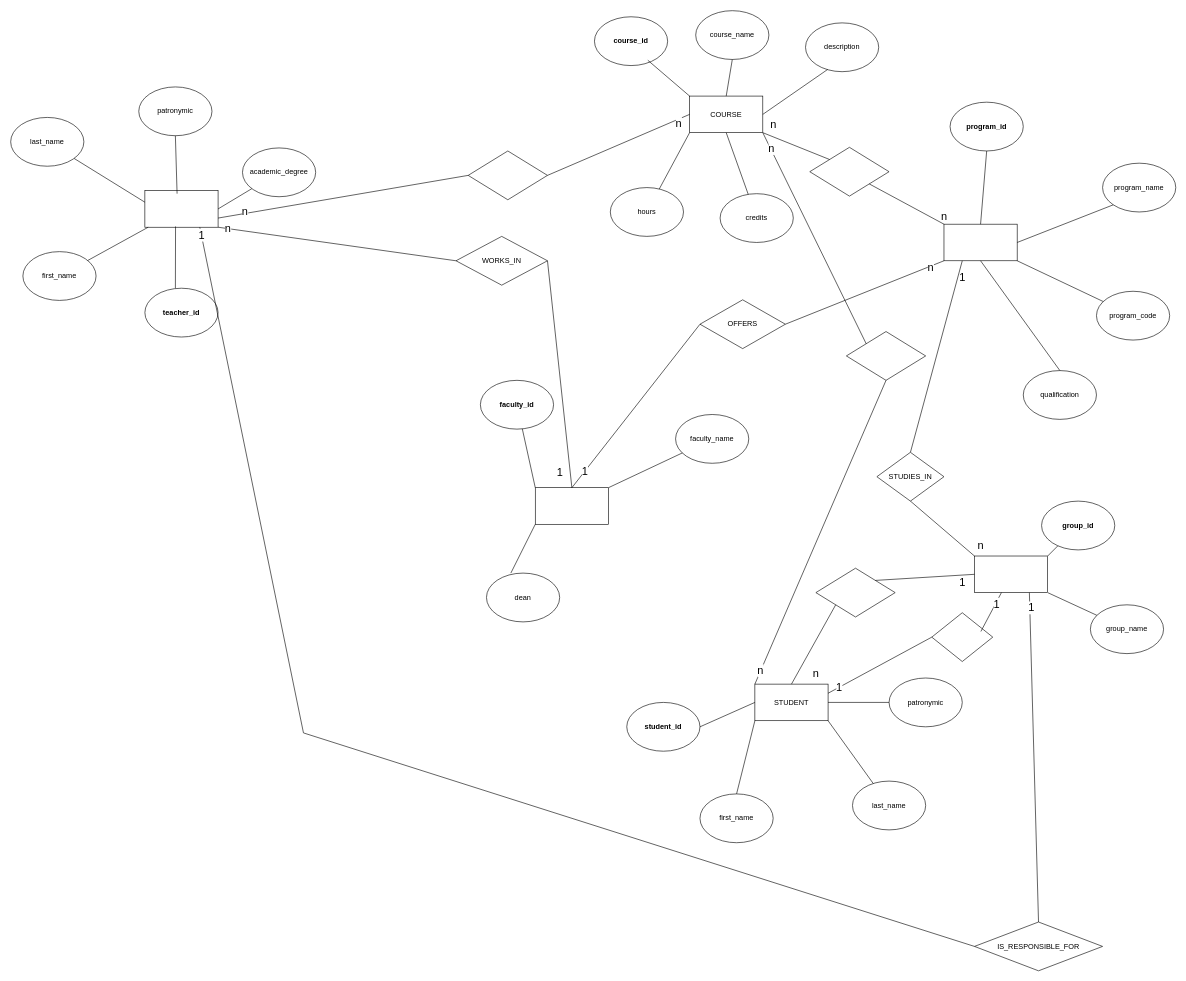
This 1186x981 diagram has some shape labels left out. The centre of each missing label's shape, as x and y in pixels:
"BELONGS_TO" goes at point 855,592.
"ENROLLED_IN" goes at point 886,355.
"FACULTY" goes at point 571,505.
"GROUP" goes at point 1011,574.
"HAS_LEADER" goes at point 962,637.
"INCLUDES" goes at point 849,171.
"PROGRAM" goes at point 980,242.
"TEACHER" goes at point 181,208.
"TEACHES" goes at point 507,175.
